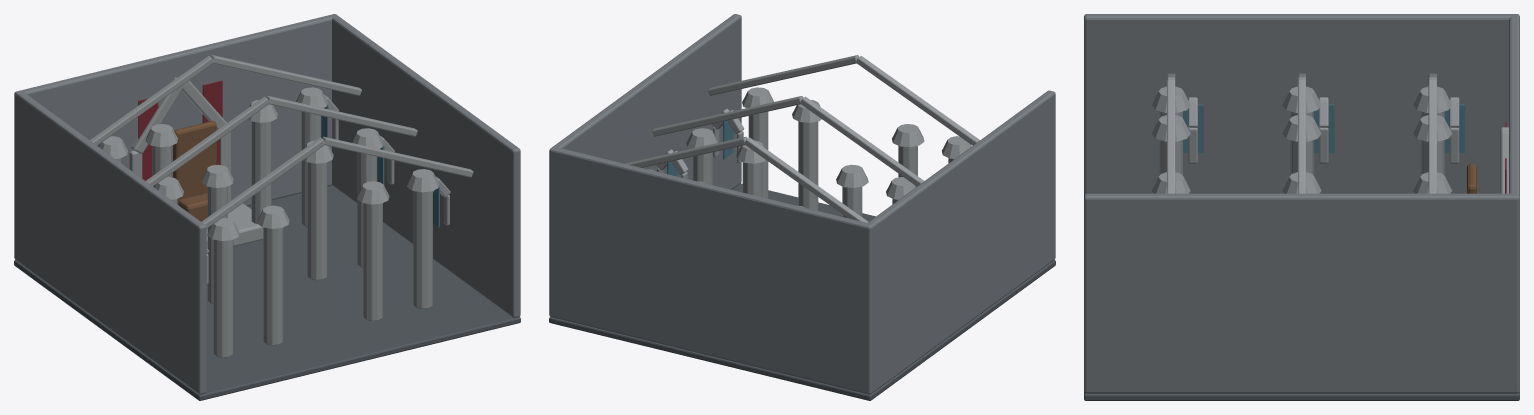
File: great-hall.glb
3 views of the same model, side by side, from view 1: azimuth 30°, elevation 25°; view 2: azimuth 150°, elevation 25°; view 3: azimuth 270°, elevation 25° (orthographic). The views are drawn at different scales.
Parts seen in each view (by area): view 1: VIS_HALL_SIDE_WALL_-9.75, VIS_HALL_FLOOR, VIS_HALL_SIDE_WALL_9.75, VIS_HALL_END_WALL, VIS_HALL_COLUMN_-3.1_-28, VIS_HALL_COLUMN_3.1_-34, VIS_HALL_COLUMN_-6.2_-28, VIS_HALL_COLUMN_6.2_-28, VIS_HALL_COLUMN_3.1_-28, VIS_THRONE_BACK, VIS_HALL_COLUMN_3.1_-40, VIS_HALL_RIB_L_-28 (+25 smaller); view 2: VIS_HALL_END_WALL, VIS_HALL_SIDE_WALL_-9.75, VIS_HALL_SIDE_WALL_9.75, VIS_HALL_FLOOR, VIS_HALL_COLUMN_3.1_-28, VIS_HALL_RIB_L_-34, VIS_HALL_RIB_L_-28, VIS_HALL_RIB_R_-34, VIS_HALL_RIB_R_-28, VIS_HALL_RIB_L_-40, VIS_HALL_RIB_R_-40, VIS_HALL_COLUMN_6.2_-28 (+10 smaller); view 3: VIS_HALL_SIDE_WALL_9.75, VIS_HALL_SIDE_WALL_-9.75, VIS_HALL_FLOOR, VIS_HALL_END_WALL, VIS_HALL_RIB_R_-28, VIS_HALL_RIB_R_-40, VIS_HALL_RIB_R_-34, VIS_HALL_CAP_-3.1_-28, VIS_HALL_CAP_-3.1_-40, VIS_HALL_CAP_-6.2_-34, VIS_HALL_CAP_-3.1_-34, VIS_HALL_CAP_-6.2_-28 (+11 smaller).
Boxes of the visible parts, x1=… form: VIS_HALL_SIDE_WALL_-9.75: x1=14, y1=90, x2=206, y2=394; VIS_HALL_FLOOR: x1=14, y1=185, x2=520, y2=400; VIS_HALL_SIDE_WALL_9.75: x1=331, y1=14, x2=520, y2=317; VIS_HALL_END_WALL: x1=14, y1=14, x2=337, y2=261; VIS_HALL_COLUMN_-3.1_-28: x1=263, y1=227, x2=283, y2=345; VIS_HALL_COLUMN_3.1_-34: x1=307, y1=162, x2=327, y2=280; VIS_HALL_COLUMN_-6.2_-28: x1=213, y1=239, x2=233, y2=357; VIS_HALL_COLUMN_6.2_-28: x1=413, y1=191, x2=432, y2=308; VIS_HALL_COLUMN_3.1_-28: x1=363, y1=203, x2=382, y2=320; VIS_THRONE_BACK: x1=173, y1=121, x2=216, y2=204; VIS_HALL_COLUMN_3.1_-40: x1=251, y1=121, x2=271, y2=223; VIS_HALL_RIB_L_-28: x1=201, y1=137, x2=324, y2=228; VIS_HALL_END_WALL: x1=549, y1=147, x2=873, y2=394; VIS_HALL_SIDE_WALL_-9.75: x1=864, y1=90, x2=1055, y2=394; VIS_HALL_SIDE_WALL_9.75: x1=549, y1=14, x2=741, y2=317; VIS_HALL_FLOOR: x1=549, y1=183, x2=1055, y2=400; VIS_HALL_COLUMN_3.1_-28: x1=798, y1=121, x2=818, y2=210; VIS_HALL_RIB_L_-34: x1=800, y1=96, x2=924, y2=186; VIS_HALL_RIB_L_-28: x1=856, y1=56, x2=979, y2=145; VIS_HALL_RIB_R_-34: x1=652, y1=96, x2=803, y2=136; VIS_HALL_RIB_R_-28: x1=708, y1=55, x2=858, y2=95; VIS_HALL_RIB_L_-40: x1=745, y1=137, x2=868, y2=222; VIS_HALL_RIB_R_-40: x1=625, y1=136, x2=747, y2=167; VIS_HALL_COLUMN_6.2_-28: x1=748, y1=111, x2=768, y2=198; VIS_HALL_SIDE_WALL_9.75: x1=1084, y1=193, x2=1519, y2=393; VIS_HALL_SIDE_WALL_-9.75: x1=1084, y1=14, x2=1519, y2=195; VIS_HALL_FLOOR: x1=1084, y1=391, x2=1519, y2=400; VIS_HALL_END_WALL: x1=1509, y1=14, x2=1519, y2=393; VIS_HALL_RIB_R_-28: x1=1167, y1=79, x2=1175, y2=193; VIS_HALL_RIB_R_-40: x1=1428, y1=79, x2=1436, y2=193; VIS_HALL_RIB_R_-34: x1=1298, y1=79, x2=1305, y2=193; VIS_HALL_CAP_-3.1_-28: x1=1151, y1=115, x2=1190, y2=141; VIS_HALL_CAP_-3.1_-40: x1=1413, y1=115, x2=1452, y2=141; VIS_HALL_CAP_-6.2_-34: x1=1282, y1=86, x2=1321, y2=112; VIS_HALL_CAP_-3.1_-34: x1=1282, y1=115, x2=1321, y2=141; VIS_HALL_CAP_-6.2_-28: x1=1151, y1=86, x2=1190, y2=112.
Bounding box in the file's own units: 20 × 11.71 × 20.
